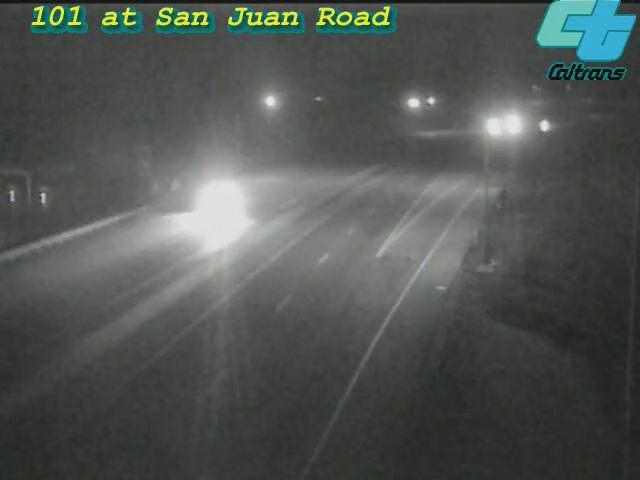vehicle: (177, 162, 257, 242), (519, 102, 569, 152), (468, 102, 518, 152), (487, 99, 537, 149)
